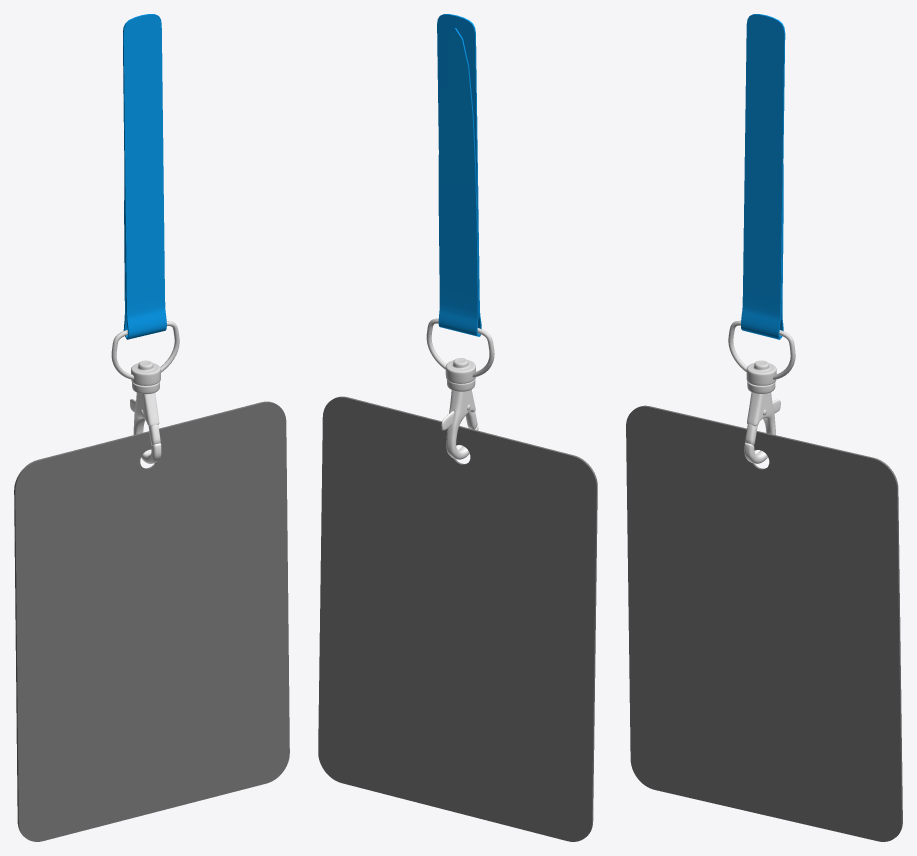
File: IDmodal.glb
3 renders of one model, left to right at view 1: azimuth 30°, elevation 25°; view 2: azimuth 150°, elevation 25°; view 3: azimuth 330°, elevation 25°, orthographic.
Parts seen in each view (by area): view 1: Plane.002, Plane, Cube, BezierCircle, Circle; view 2: Plane.002, Plane, Cube, BezierCircle, Circle; view 3: Plane.002, Plane, Cube, BezierCircle, Circle.
Boxes of the visible parts, bbox=[...] form: Plane.002: bbox=[14, 401, 289, 841]; Plane: bbox=[123, 14, 166, 339]; Cube: bbox=[130, 392, 161, 463]; BezierCircle: bbox=[111, 321, 179, 379]; Circle: bbox=[131, 360, 160, 385]; Plane.002: bbox=[318, 396, 597, 841]; Plane: bbox=[437, 14, 481, 336]; Cube: bbox=[441, 389, 478, 459]; BezierCircle: bbox=[426, 318, 494, 377]; Circle: bbox=[445, 358, 475, 383]; Plane.002: bbox=[626, 405, 902, 841]; Plane: bbox=[741, 14, 785, 339]; Cube: bbox=[744, 392, 780, 463]; BezierCircle: bbox=[728, 320, 795, 379]; Circle: bbox=[746, 360, 776, 385].
Size of the model in its own units: 1.71 by 4.71 by 0.33.
